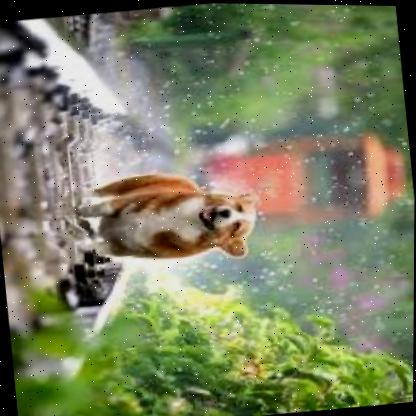dog: (73, 159, 264, 275)
